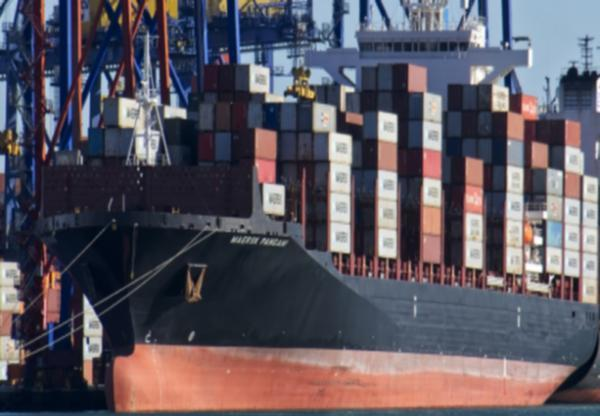Container Ship: (7, 0, 599, 415)
